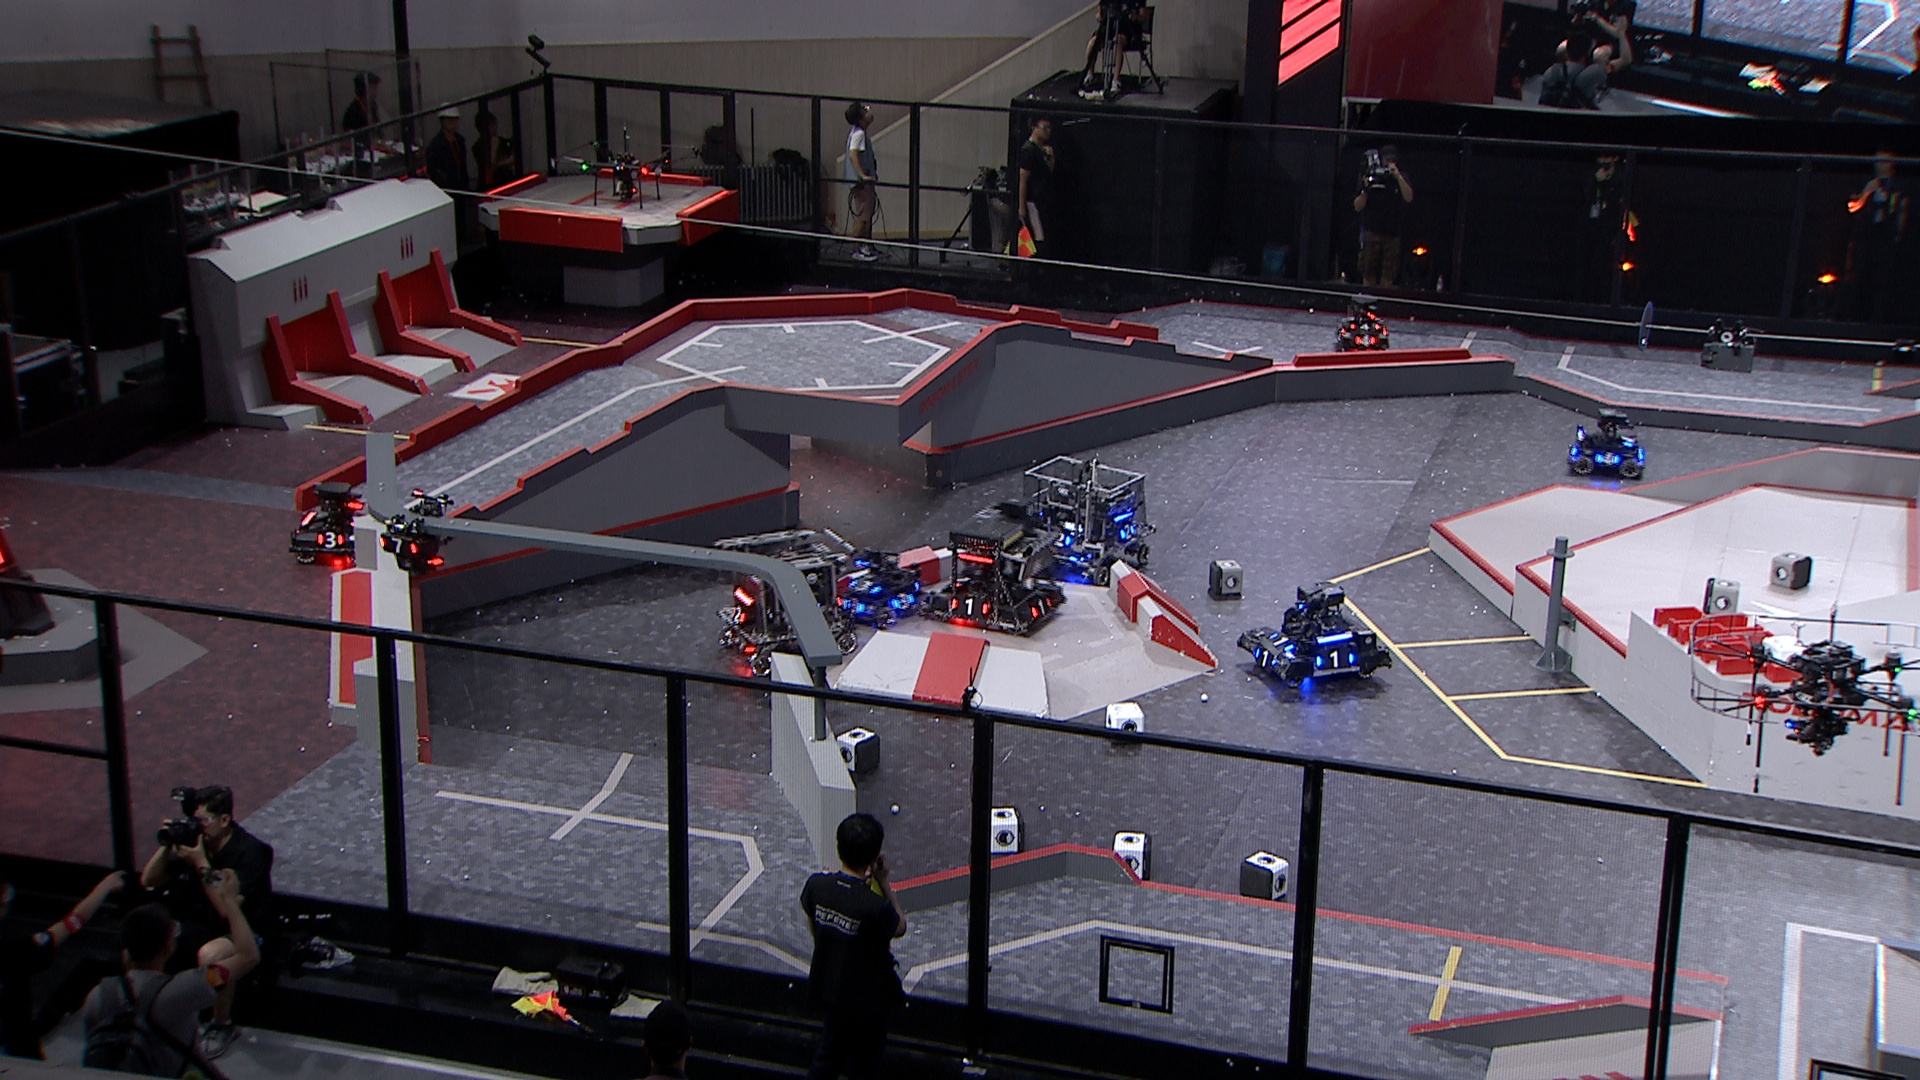armor: (1313, 651, 1357, 669), (382, 537, 419, 555), (953, 597, 986, 617), (314, 531, 345, 550), (840, 597, 868, 617), (1271, 632, 1295, 654), (1254, 645, 1276, 669), (1592, 451, 1619, 469), (1030, 599, 1054, 618), (891, 593, 916, 612), (851, 578, 877, 593), (1048, 531, 1073, 547), (948, 575, 969, 593), (1354, 334, 1377, 351), (1116, 522, 1135, 541), (1618, 433, 1638, 450), (1348, 320, 1371, 332), (731, 604, 745, 622)
car: (709, 526, 861, 675), (920, 495, 1065, 636), (1015, 454, 1156, 591), (1240, 578, 1391, 688), (828, 545, 930, 628), (289, 483, 375, 567), (1567, 409, 1647, 481), (1333, 290, 1394, 356)
watcher: (373, 491, 456, 576)
